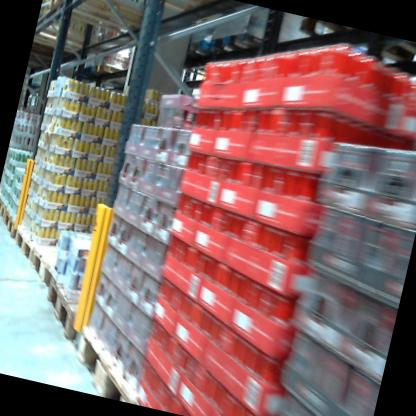pallet: (288, 16, 416, 83), (39, 273, 135, 355), (66, 326, 155, 404), (77, 0, 241, 42), (25, 237, 111, 309), (43, 0, 165, 50), (206, 15, 299, 79), (9, 221, 89, 282), (175, 25, 224, 73), (76, 60, 145, 94), (92, 58, 146, 87), (0, 204, 20, 243), (0, 191, 12, 223)
